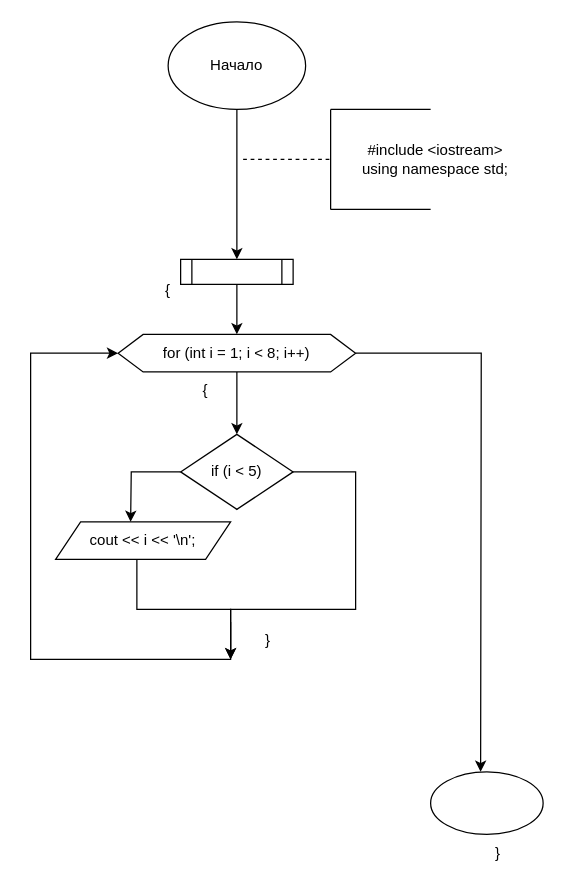
Some shapes in this 565 by 894 pixel diagram are drawn without their labels. Here are the shapes that lost their labels. From the top down, the centre of each, then its label:
At (236,271): "int main()".
At (486,802): "return 0;".
